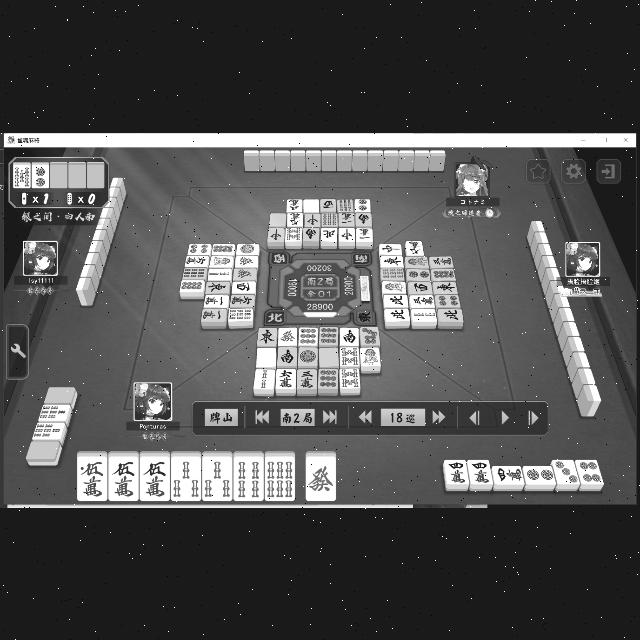1m: (198, 304, 228, 324), (204, 294, 230, 308), (356, 225, 372, 247), (341, 210, 354, 228)
1p: (298, 346, 318, 366), (237, 240, 260, 256)
1s: (360, 346, 380, 368), (210, 252, 234, 268), (407, 254, 429, 268), (382, 282, 408, 292)
2p: (523, 460, 553, 490), (30, 160, 50, 190), (357, 193, 378, 213), (404, 264, 430, 280), (406, 268, 429, 282)
2s: (254, 368, 276, 394), (203, 266, 230, 284), (410, 308, 438, 324)
3m: (298, 366, 316, 394), (410, 292, 440, 308), (432, 252, 456, 268), (284, 194, 304, 212)
3p: (552, 453, 580, 491)
3s: (202, 450, 234, 502), (171, 454, 203, 504)
4m: (488, 462, 524, 490), (466, 454, 492, 488), (442, 458, 468, 490)
4p: (576, 456, 606, 492), (432, 292, 462, 308), (188, 238, 210, 256)
4s: (235, 452, 263, 502)
5m: (76, 450, 108, 500), (140, 454, 170, 500), (112, 454, 138, 500)
5s: (10, 162, 30, 190)
6m: (276, 366, 294, 394), (231, 292, 253, 306), (186, 256, 210, 268)
6s: (262, 455, 296, 505), (316, 208, 342, 228)
7p: (356, 321, 382, 345)
7s: (26, 420, 70, 440), (36, 402, 74, 422)
8p: (180, 276, 202, 294), (207, 242, 233, 254), (432, 268, 456, 280)
8s: (341, 366, 362, 392), (339, 344, 359, 366), (286, 224, 302, 246)
9m: (284, 208, 304, 230), (408, 237, 424, 259)
9p: (318, 324, 340, 348), (317, 368, 337, 392), (298, 324, 316, 346)
9s: (228, 305, 256, 327), (180, 264, 206, 282), (227, 306, 253, 324), (336, 195, 354, 213), (380, 266, 404, 278)
chun: (381, 237, 404, 255), (304, 211, 322, 229), (338, 225, 354, 245), (268, 228, 282, 246)
haku: (298, 192, 324, 214), (253, 345, 277, 367), (314, 344, 338, 366), (268, 210, 290, 230)
hatsu: (304, 454, 338, 498), (232, 264, 258, 280), (278, 326, 296, 346), (235, 255, 258, 267)
nan: (338, 326, 359, 346), (274, 348, 296, 366), (301, 226, 323, 244), (354, 210, 370, 224)
pe: (322, 223, 341, 250), (384, 308, 408, 326), (382, 294, 412, 308), (440, 310, 464, 326)
sha: (231, 279, 257, 295), (318, 195, 336, 213), (408, 281, 430, 293)
tou: (256, 322, 278, 348), (378, 253, 406, 269), (203, 280, 229, 294), (436, 278, 458, 294)
